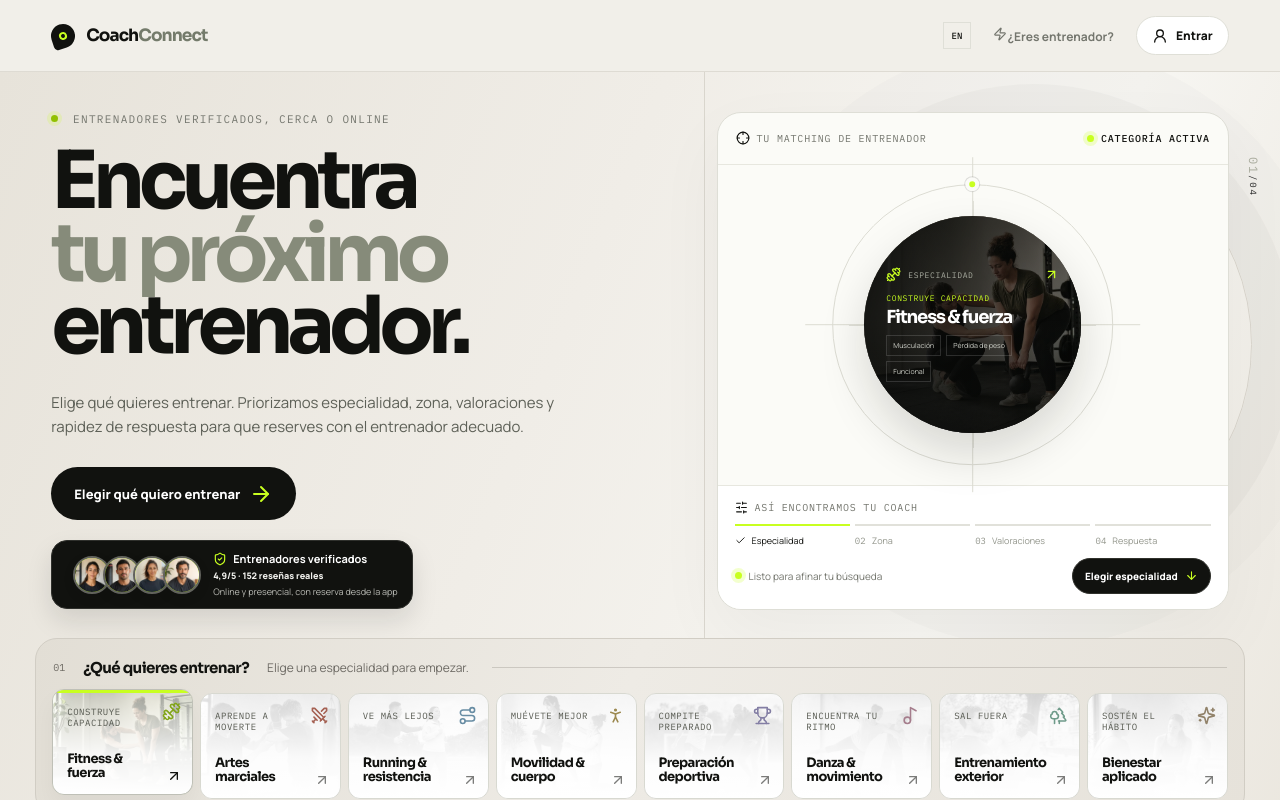
Test: CoachConnect › previews the matching system from hover and focus
Step 1. Hover over the button "Encuentra tu ritmo Danza & movimiento" → (862, 746), box [791,693,932,799]
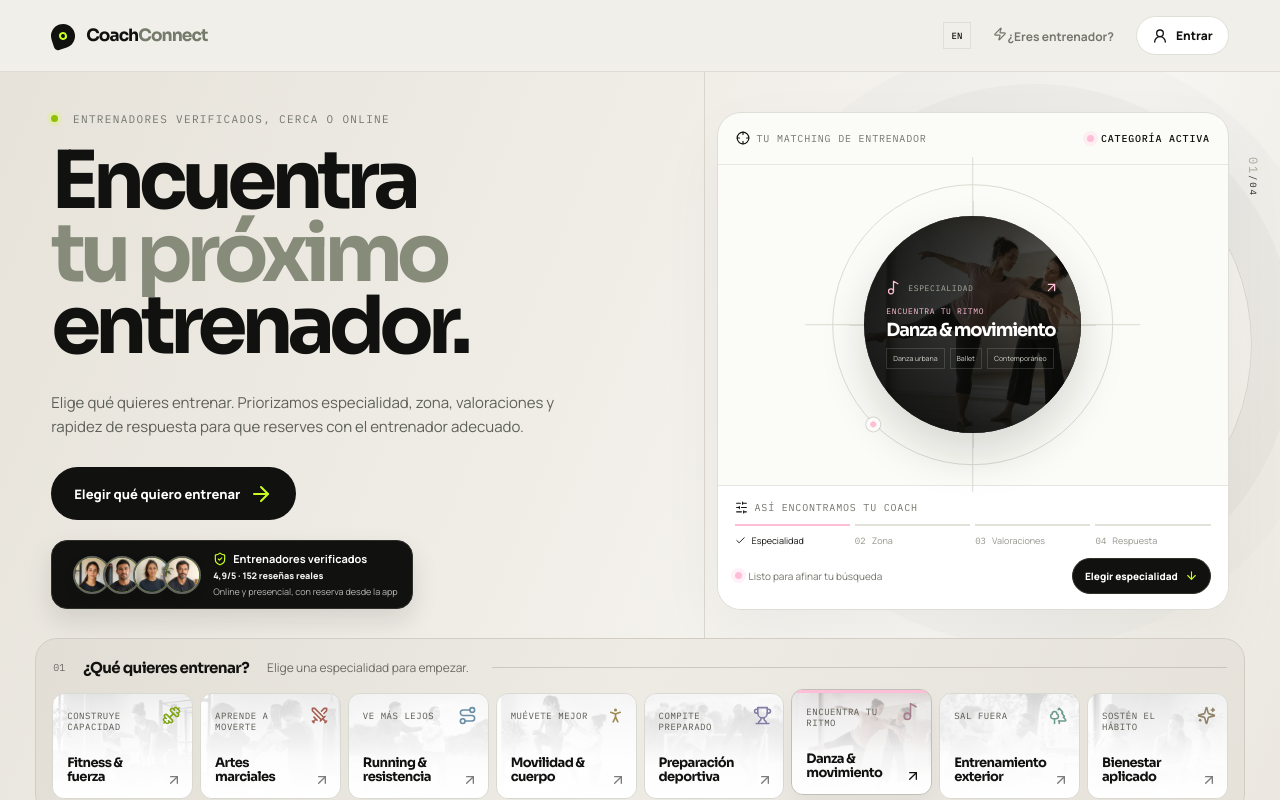
Check: the heading "Danza & movimiento" is shown, box [886,322,1059,339]
Step 2. Focus the button "Ve más lejos Running & resistencia" → (418, 746), box [348,693,489,799]
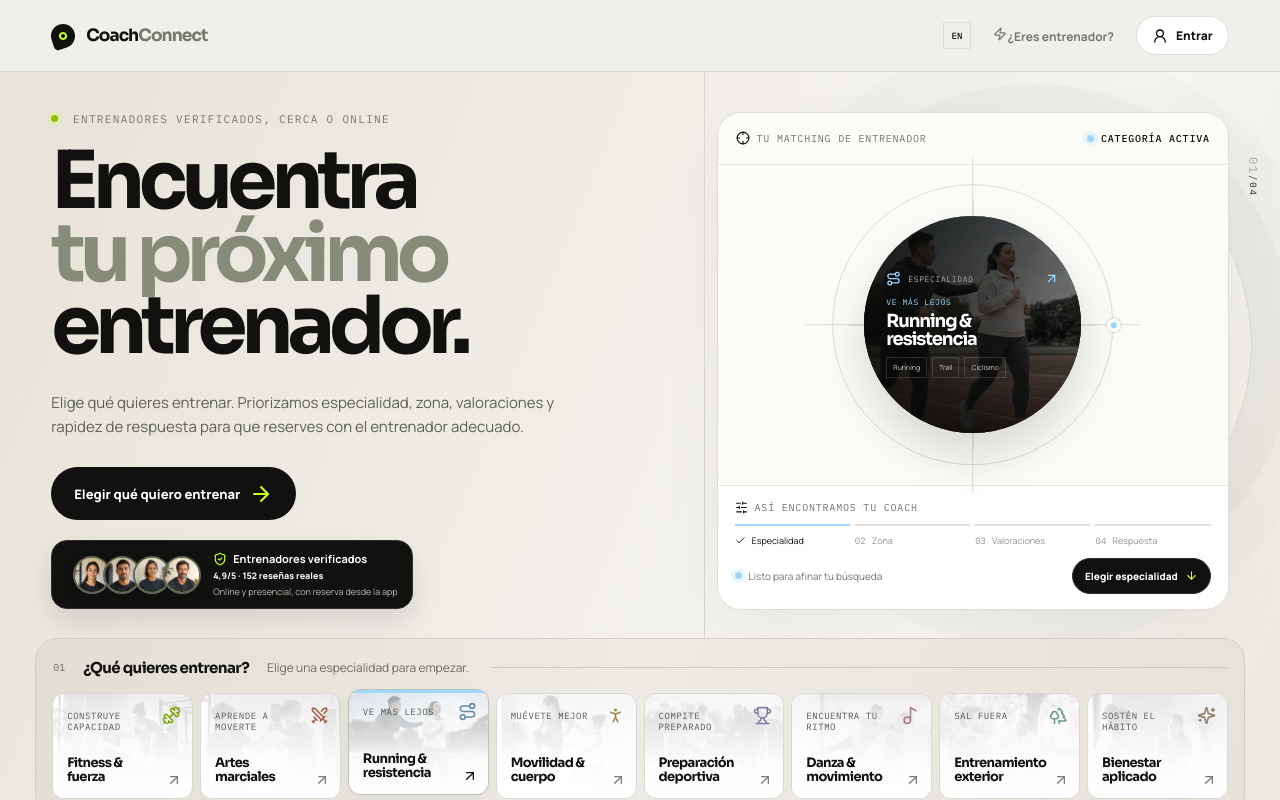
Check: the heading "Running & resistencia" is shown, box [886,310,977,350]
